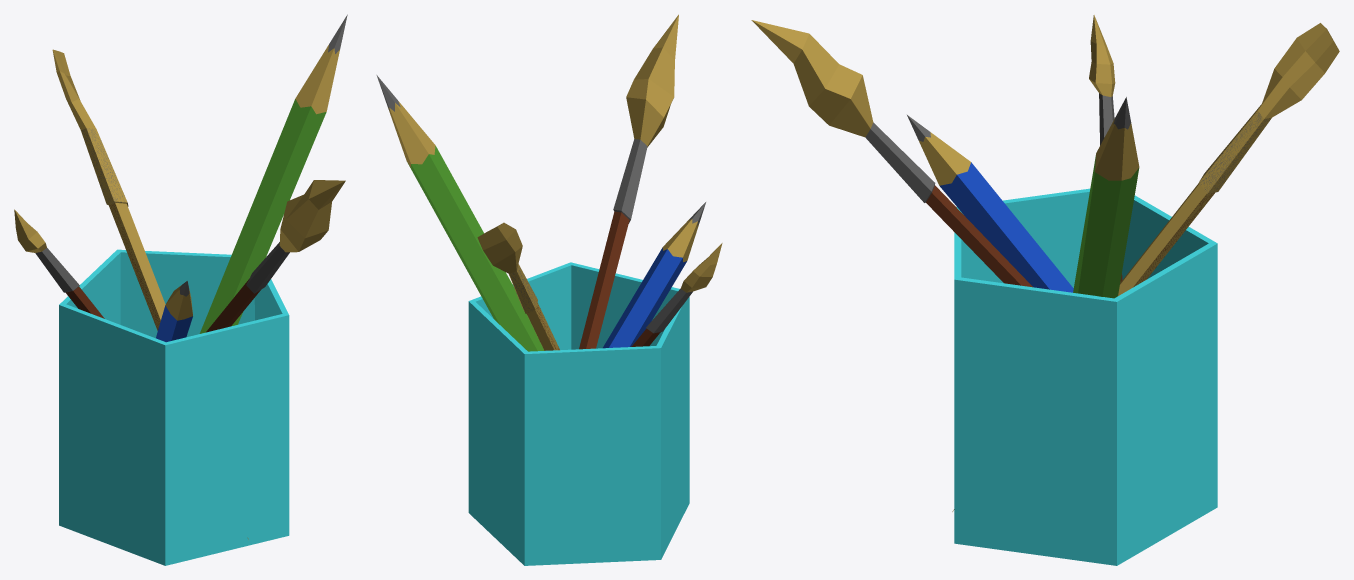
File: кисти.fbx
3 views of the same model, side by side, from view 1: azimuth 30°, elevation 25°; view 2: azimuth 150°, elevation 25°; view 3: azimuth 270°, elevation 25° (orthographic). The views are drawn at different scales.
Visible parts, largest first — view 1: подставка, караедаш, кисть плоская, кисть, мини кисть, кар синий; view 2: подставка, караедаш, кисть, кар синий, кисть плоская, мини кисть; view 3: подставка, кисть, кисть плоская, караедаш, кар синий, мини кисть.
Boxes of the visible parts, x1,y1,x2,y2 form: подставка: (59, 249, 289, 565); караедаш: (199, 14, 347, 333); кисть плоская: (52, 49, 248, 539); кисть: (206, 180, 345, 332); мини кисть: (14, 209, 104, 318); кар синий: (156, 281, 192, 342); подставка: (468, 262, 689, 565); караедаш: (376, 75, 544, 351); кисть: (579, 14, 678, 349); кар синий: (603, 202, 705, 348); кисть плоская: (477, 222, 559, 350); мини кисть: (631, 243, 722, 346); подставка: (954, 188, 1217, 565); кисть: (751, 20, 1032, 287); кисть плоская: (952, 23, 1339, 511); караедаш: (1073, 97, 1139, 298); кар синий: (907, 115, 1073, 292); мини кисть: (1089, 15, 1122, 282).
Bounding box in the file's own units: 254 × 308 × 312.
